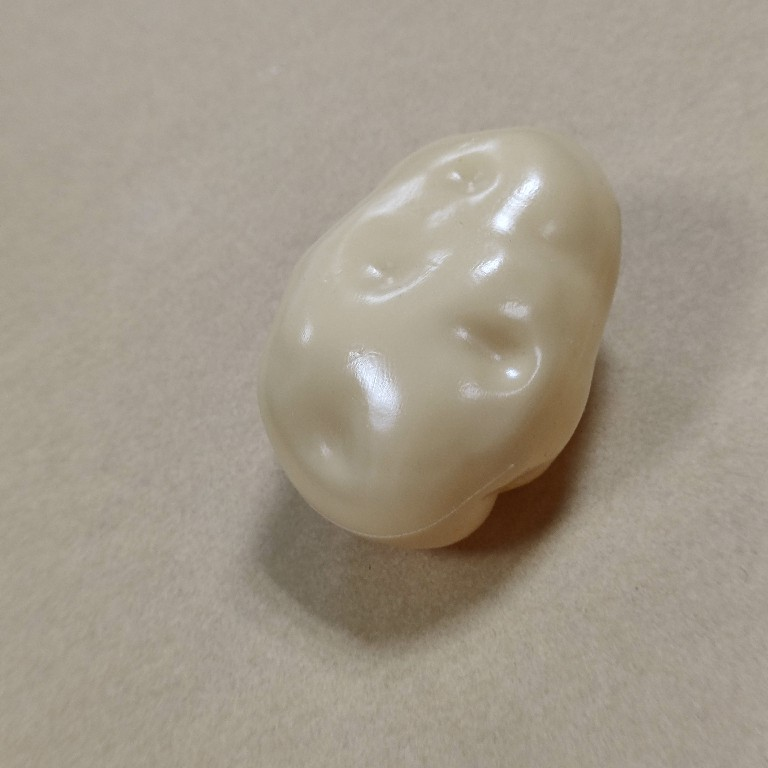fruit_potato: (250, 121, 626, 556)
